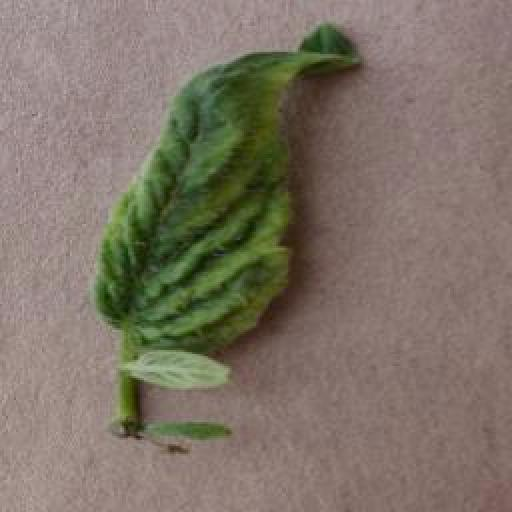disease_tomato: (92, 21, 366, 347)
